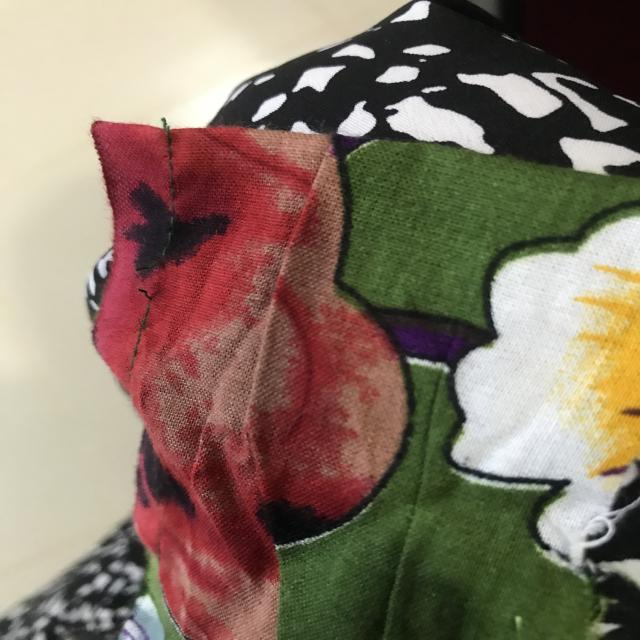broken: (125, 242, 180, 304)
